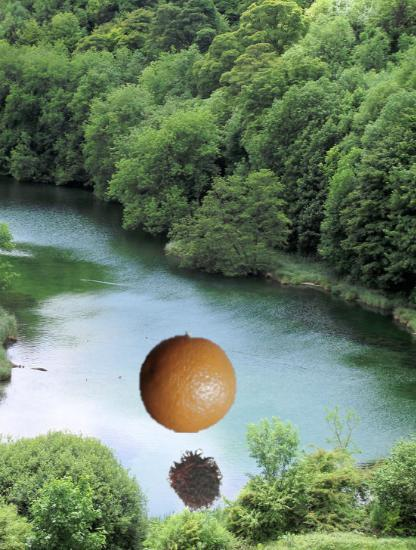Orange: (137, 331, 239, 433)
Rambutan: (161, 446, 231, 516)
